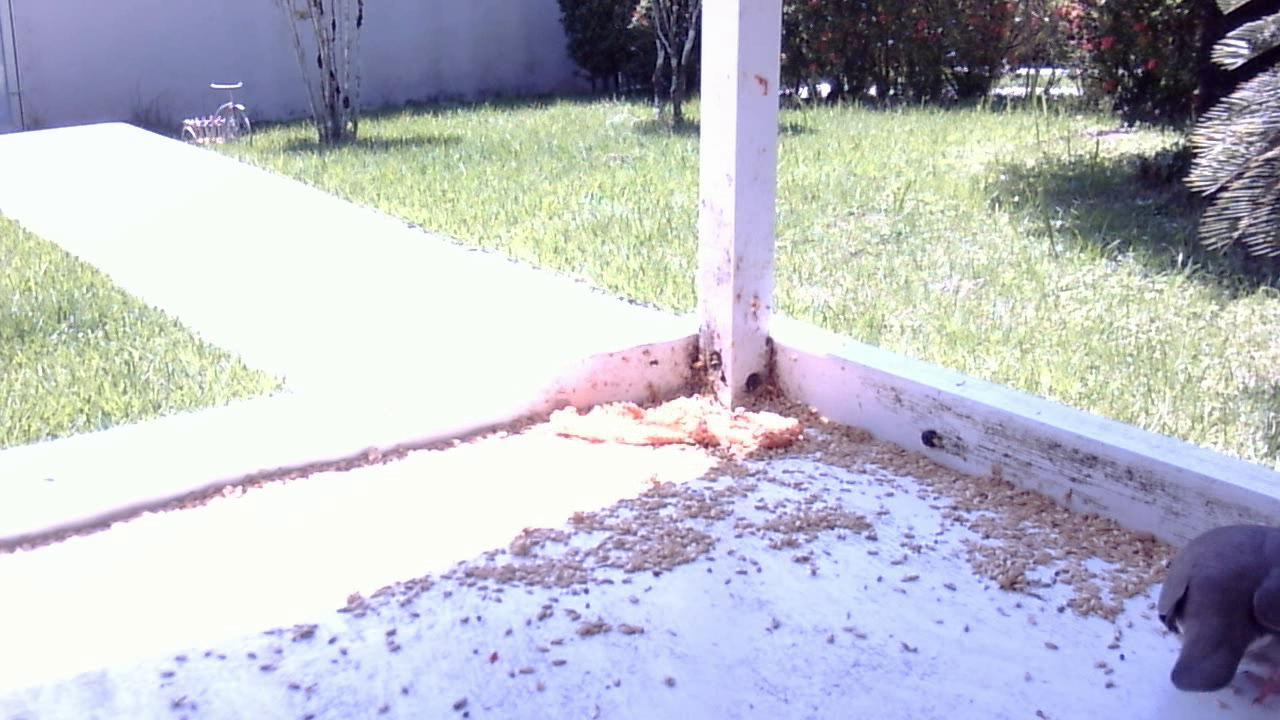rolinha: (1146, 513, 1278, 696)
